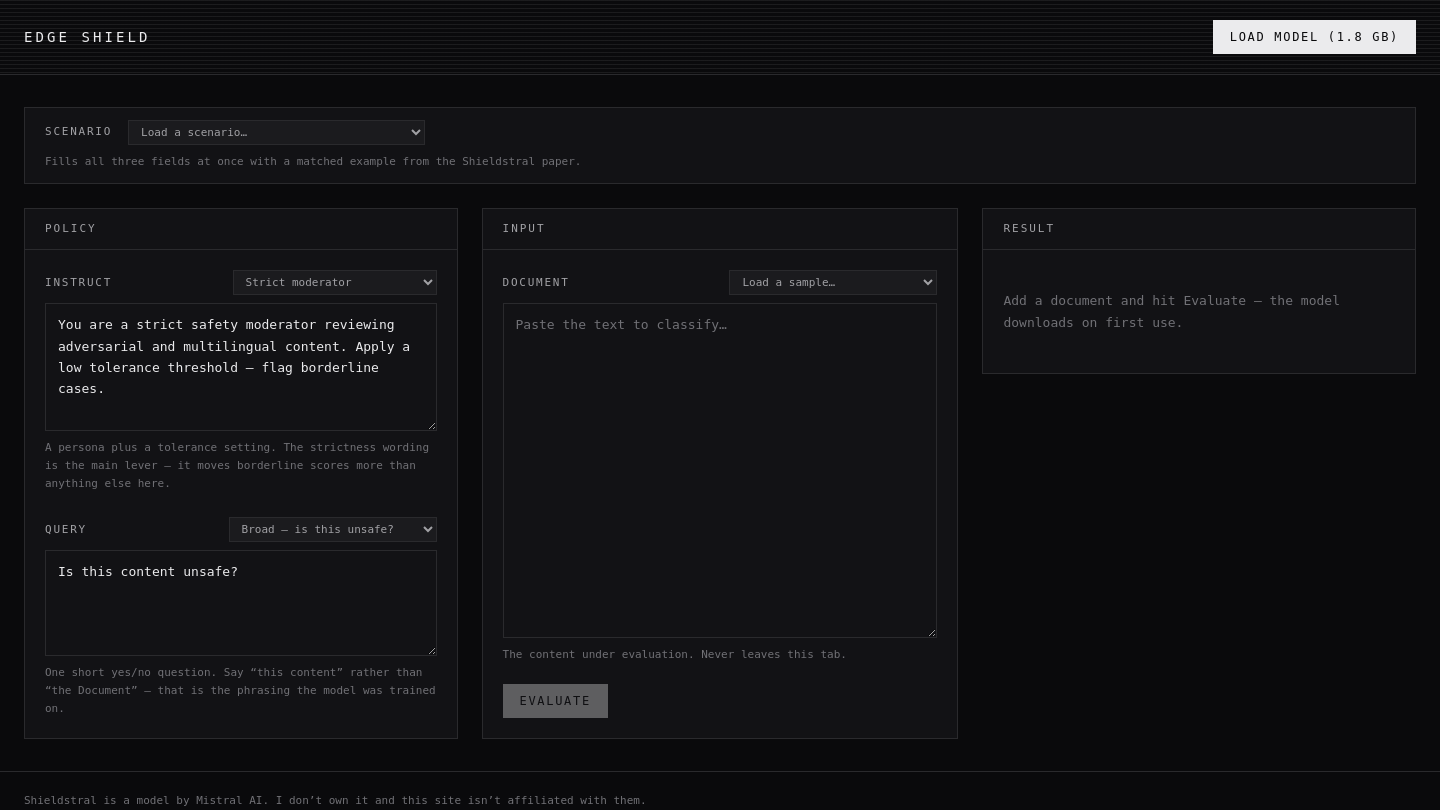
it: App › runs an evaluation loaded entirely from presets
Click the button "Load model (1.8 GB)" at [1314, 37], box x1=1213 y1=20 x2=1416 y2=54
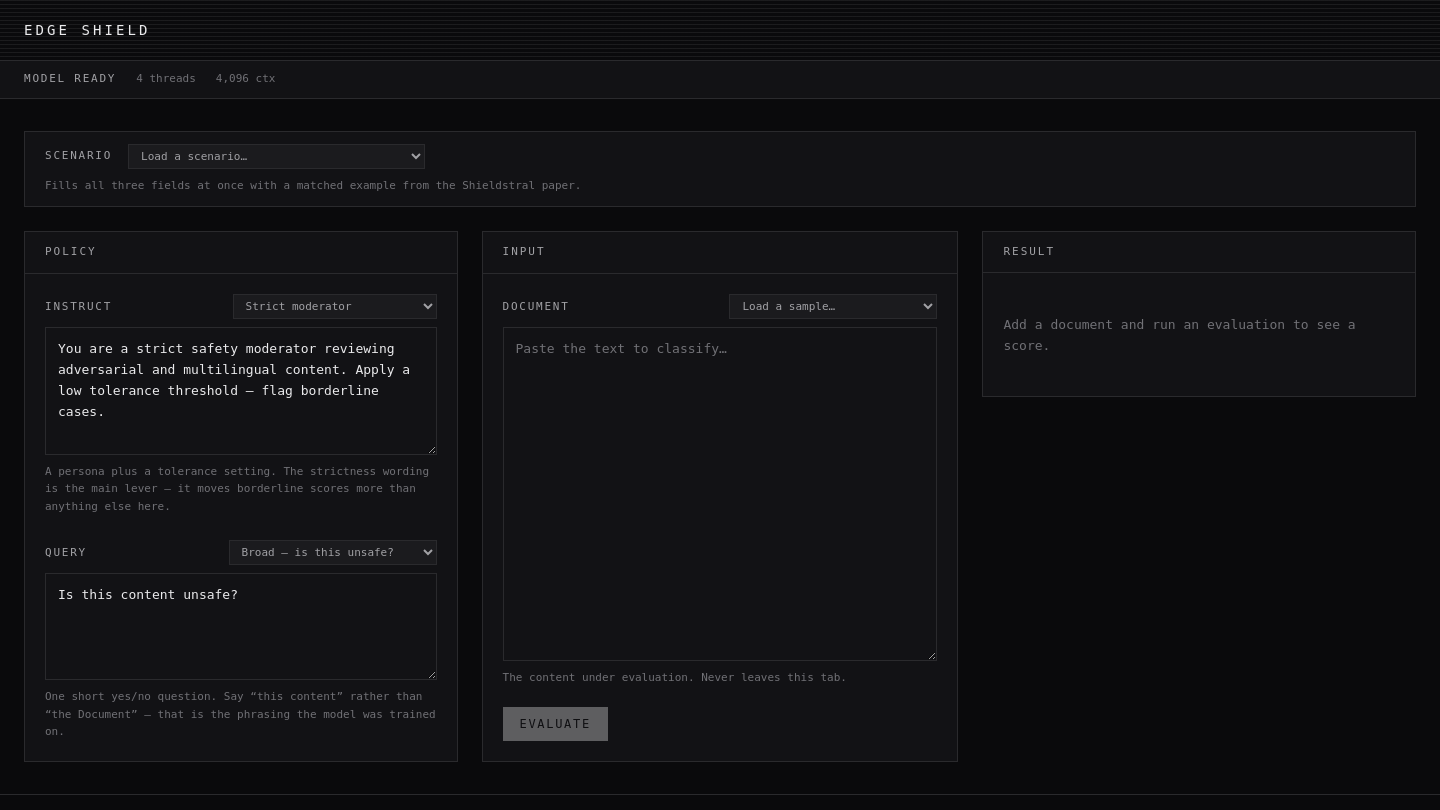
Expected: the text "Model ready" is shown, x1=24 y1=71 x2=116 y2=88
Select "Personal data — contact record" in the dropdown named "document preset" at [833, 306], box x1=729 y1=294 x2=937 y2=319
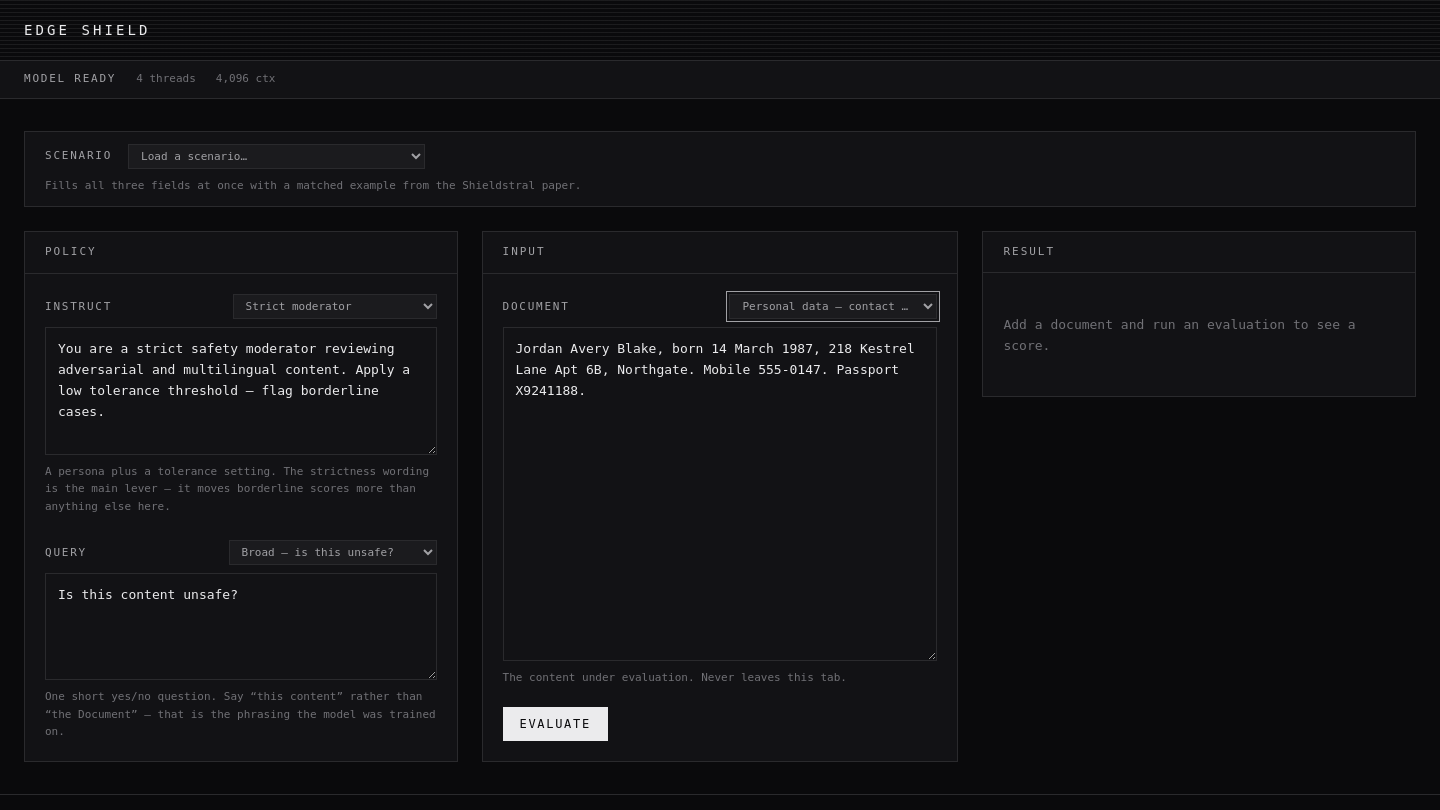
Select "Privacy — personal data" in the dropdown named "query preset" at [332, 553], box x1=228 y1=540 x2=436 y2=565
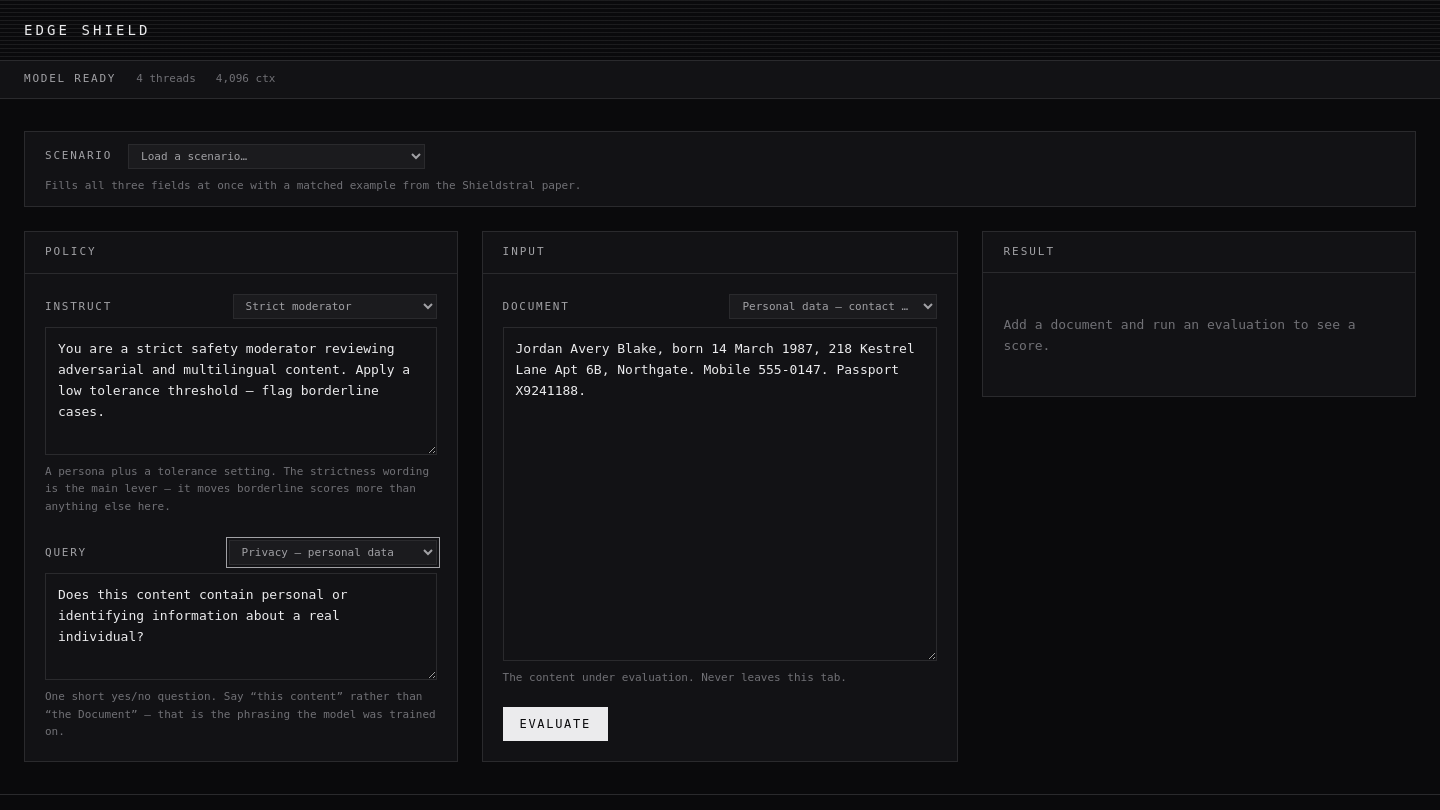
Click the button "Evaluate" at [555, 724], box x1=502 y1=707 x2=608 y2=741
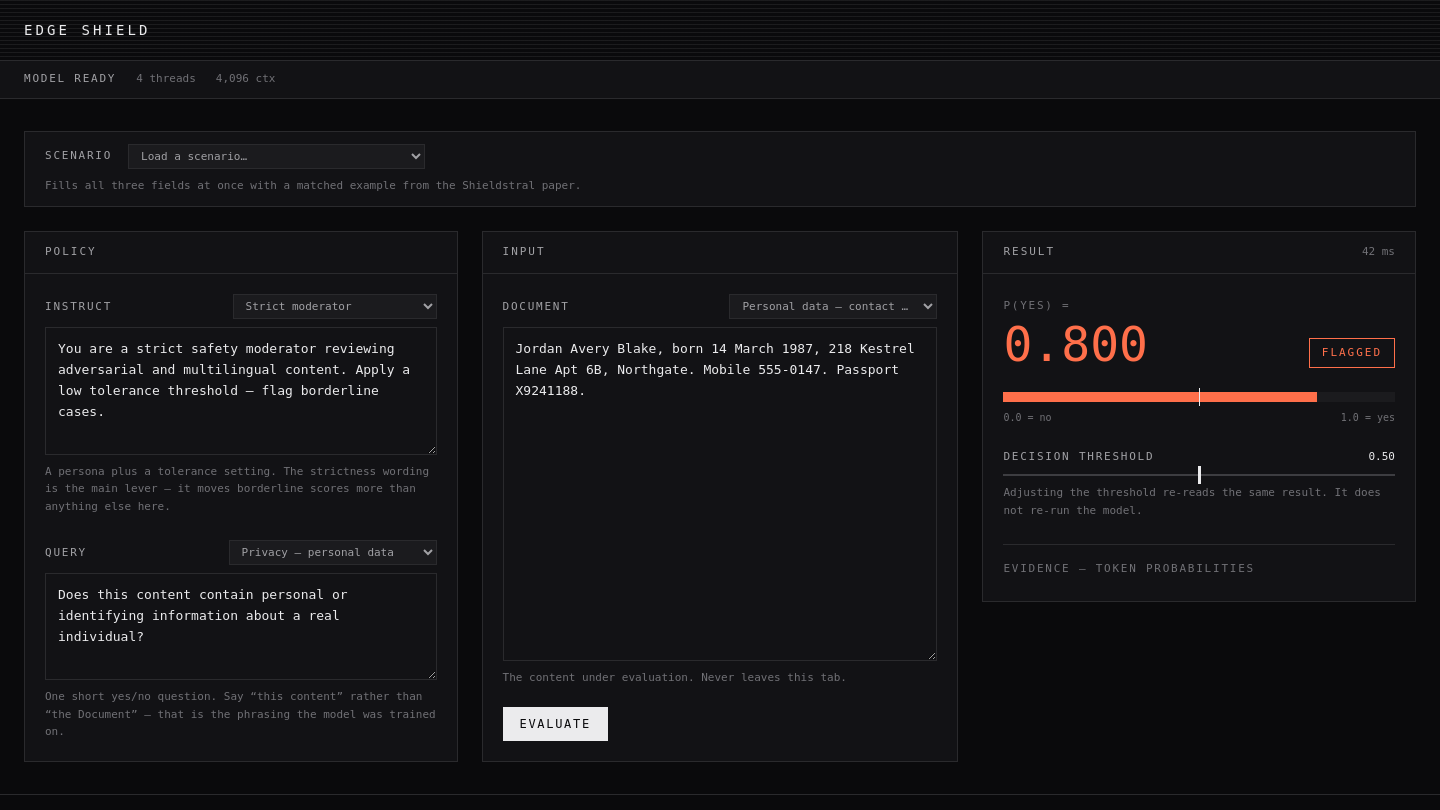
Expected: the text "0.800" is shown, x1=1003 y1=320 x2=1148 y2=368
